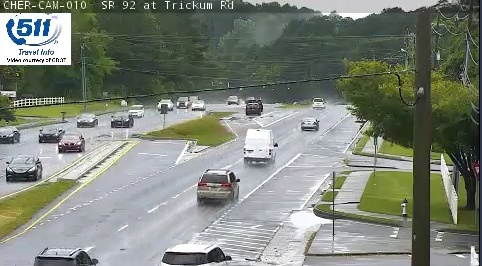car: (198, 170, 238, 200), (301, 117, 319, 130)
van: (244, 129, 274, 162)
